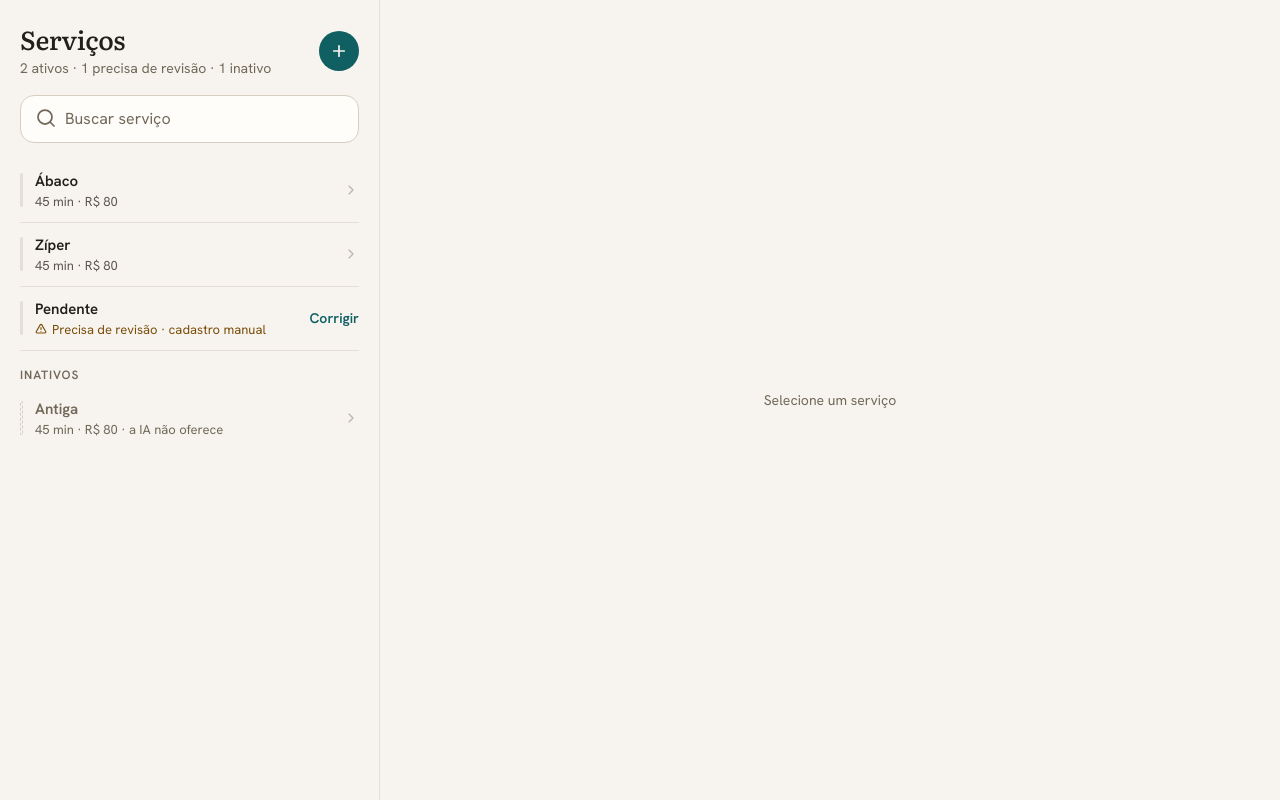
§4.2 grupos, resumo e busca › pendente em Precisa de revisão com Corrigir; inativo em Inativos; ativos em ordem pt-BR; resumo certo
Expected: the heading "Serviços" is shown, 20,19 -> 125,58
Expected: the text "Precisa de revisão" is shown, 52,321 -> 266,338
Type "Zíper" into the search field with placeholder "Buscar serviço". click: (190, 119)
box: 20,95 -> 359,143
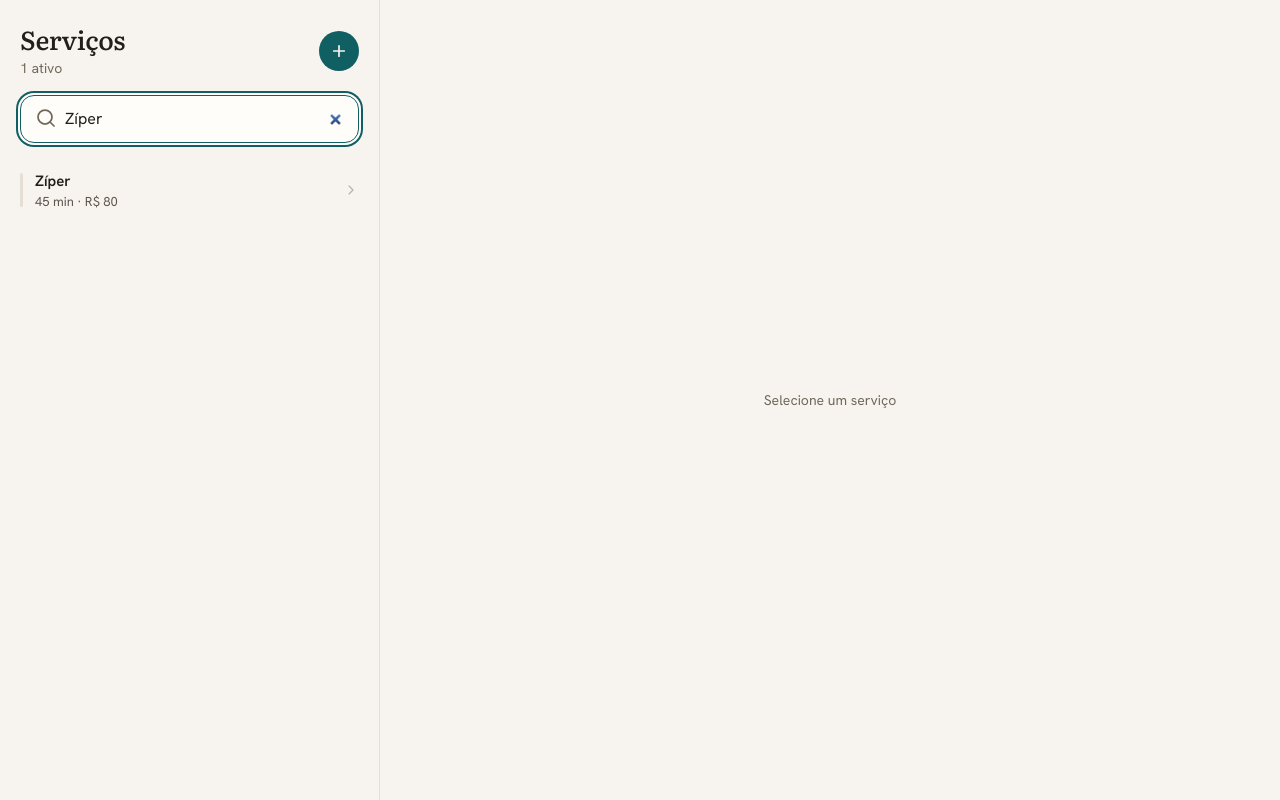
Now the text "precisa de revisão" is gone
Now the heading "Inativos" is gone
